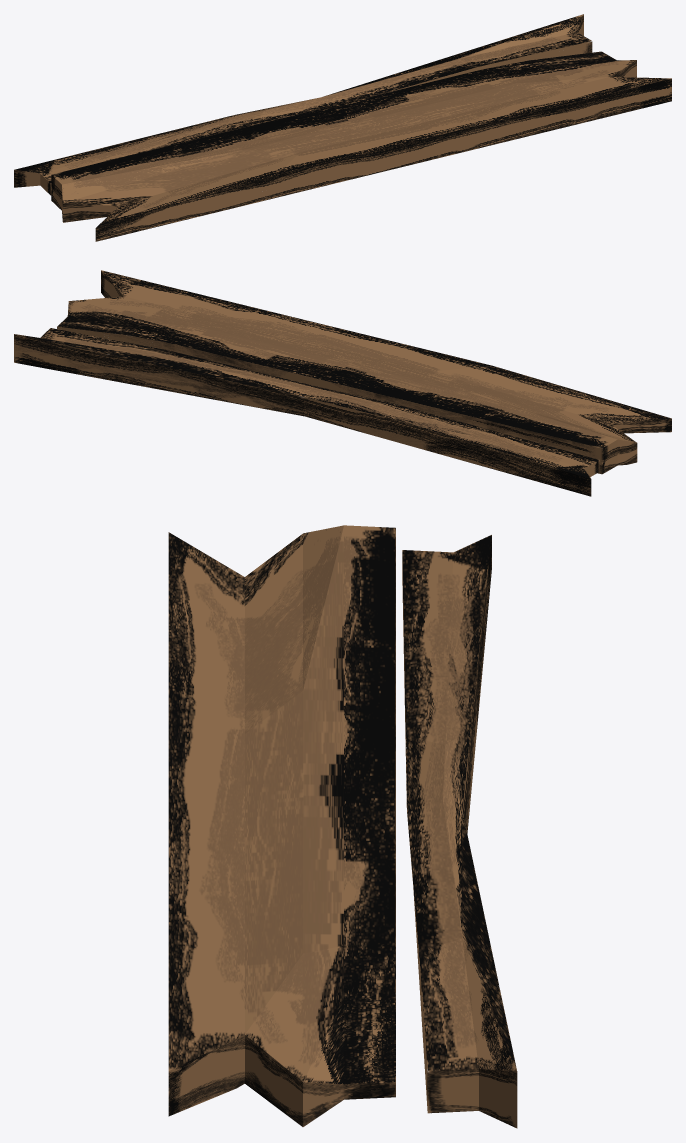
File: Plank2.fbx
The picture shows the model from 3 angles, top to bottom: view 1: azimuth 30°, elevation 25°; view 2: azimuth 150°, elevation 25°; view 3: azimuth 270°, elevation 25°; orthographic projection. The views are drawn at different scales.
Parts seen in each view (by area): view 1: Cube.004; view 2: Cube.004; view 3: Cube.004.
Boxes of the visible parts, left/top/right/bottom form: Cube.004: left=14, top=14, right=671, bottom=241; Cube.004: left=14, top=270, right=671, bottom=496; Cube.004: left=168, top=525, right=517, bottom=1128.
Bounding box in the file's own units: 873 × 41.91 × 231.
1 material, 1 textured.
